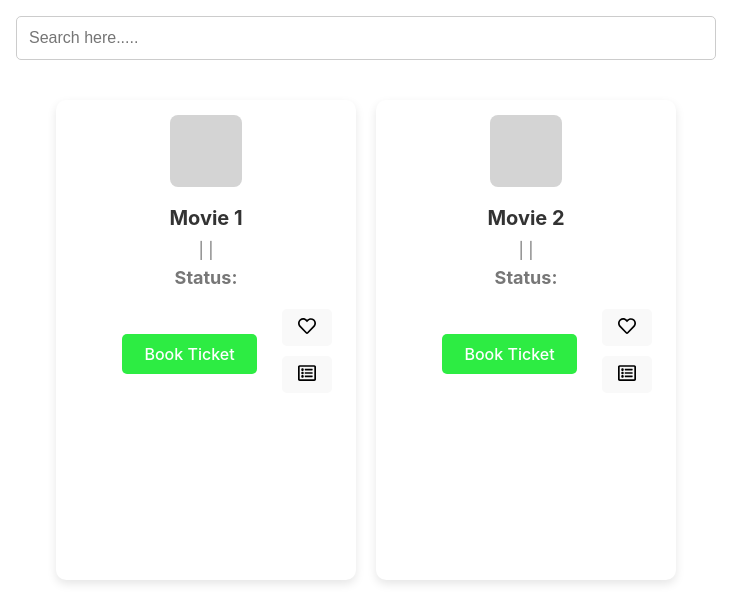
Test case: Movies Component › should filter movies based on search term
Type "Movie 1" into the field at [366, 38], box [16,16,716,60]
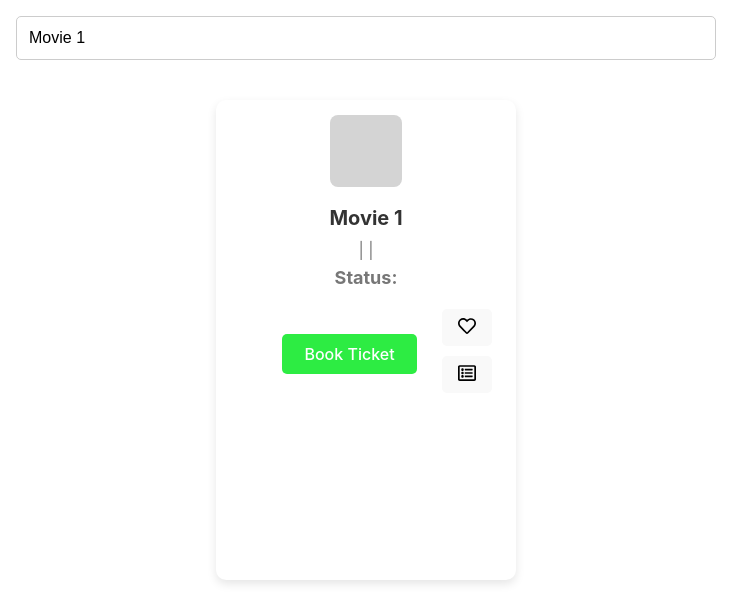
Check: the heading "Movie 2" is gone
